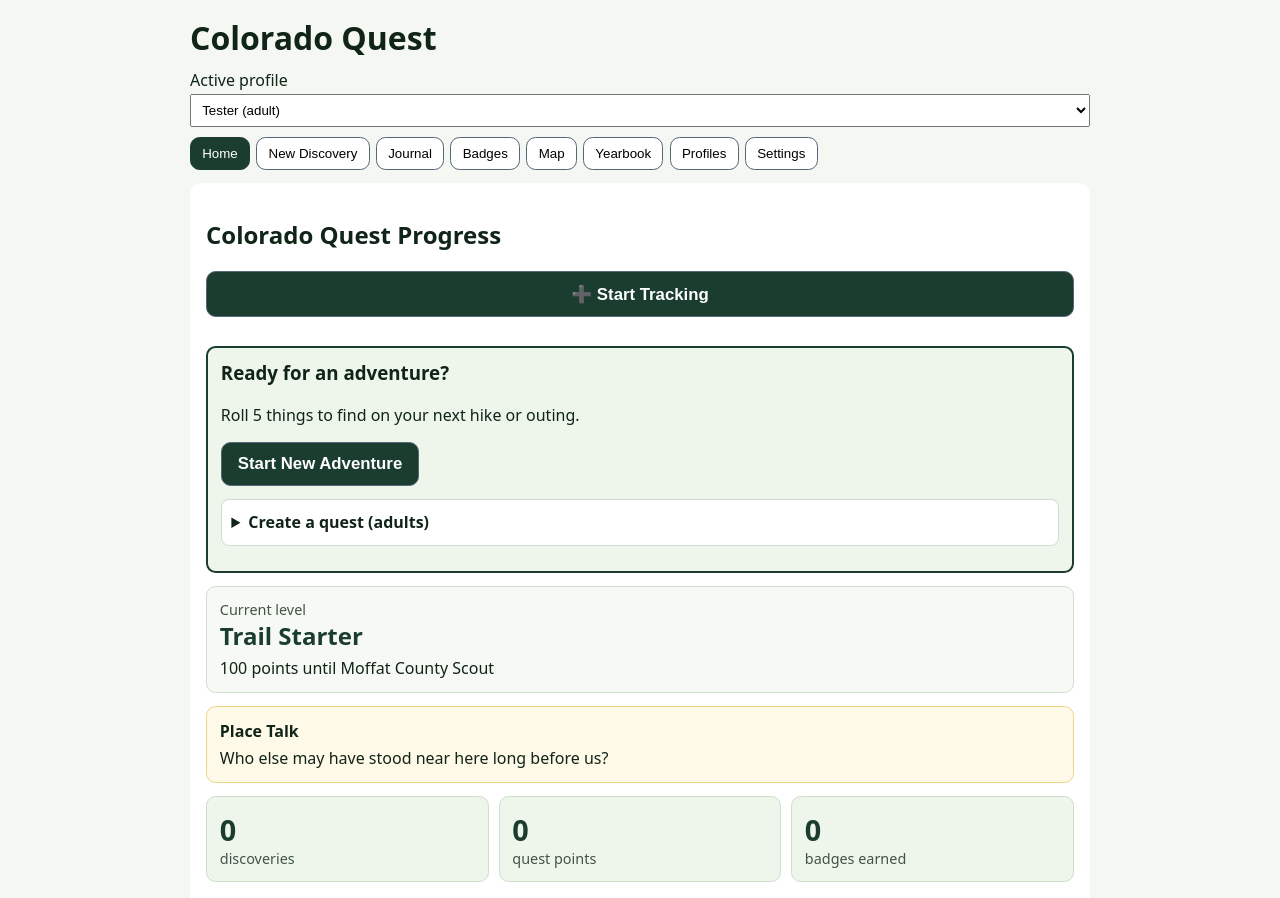
Test: yearbook › shows an empty state and disables print with no entries
Click the button "Yearbook" at [623, 153], box top-left (583, 137), bottom-right (663, 170)
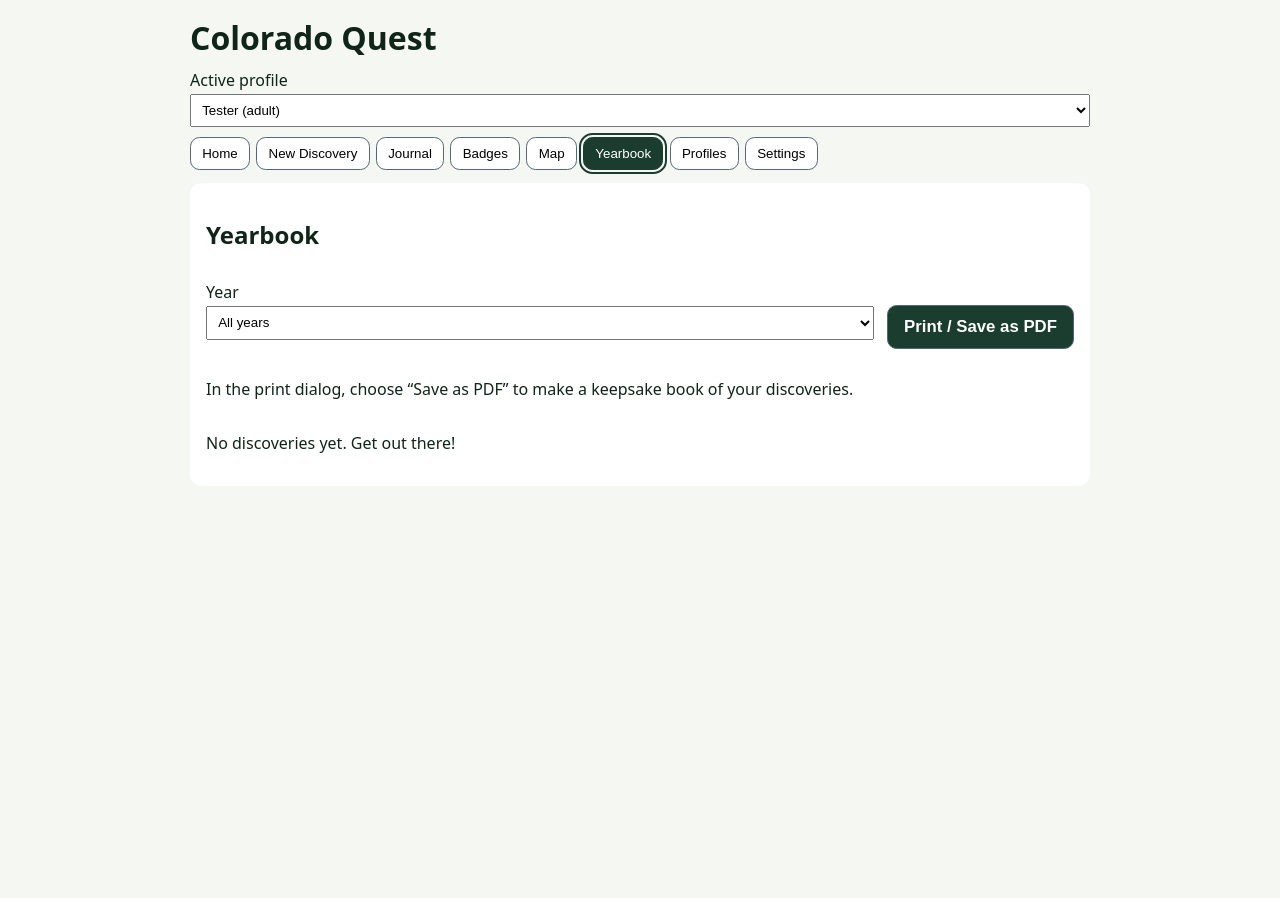
Expected: the text "No discoveries yet. Get out there!" is shown, top-left (206, 432), bottom-right (455, 454)
Expected: the button "Print / Save as PDF" is disabled, top-left (887, 305), bottom-right (1074, 349)
